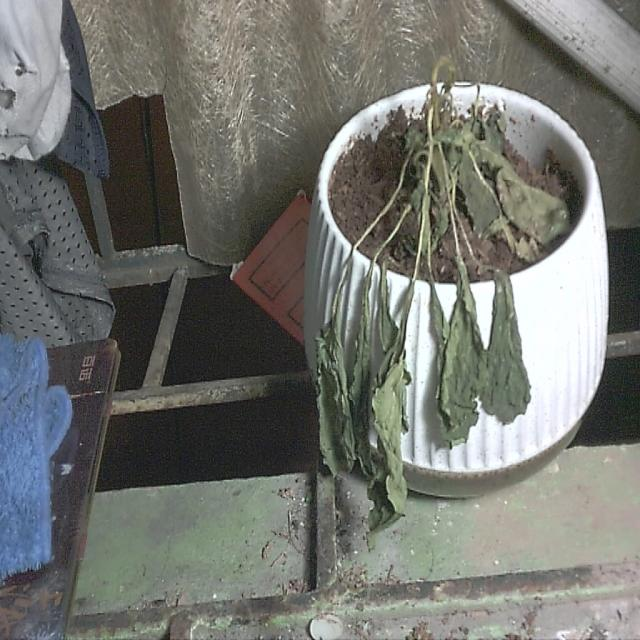Leaf: (454, 137, 570, 255), (443, 271, 488, 439), (372, 335, 408, 541), (488, 280, 532, 427), (318, 315, 357, 470)
